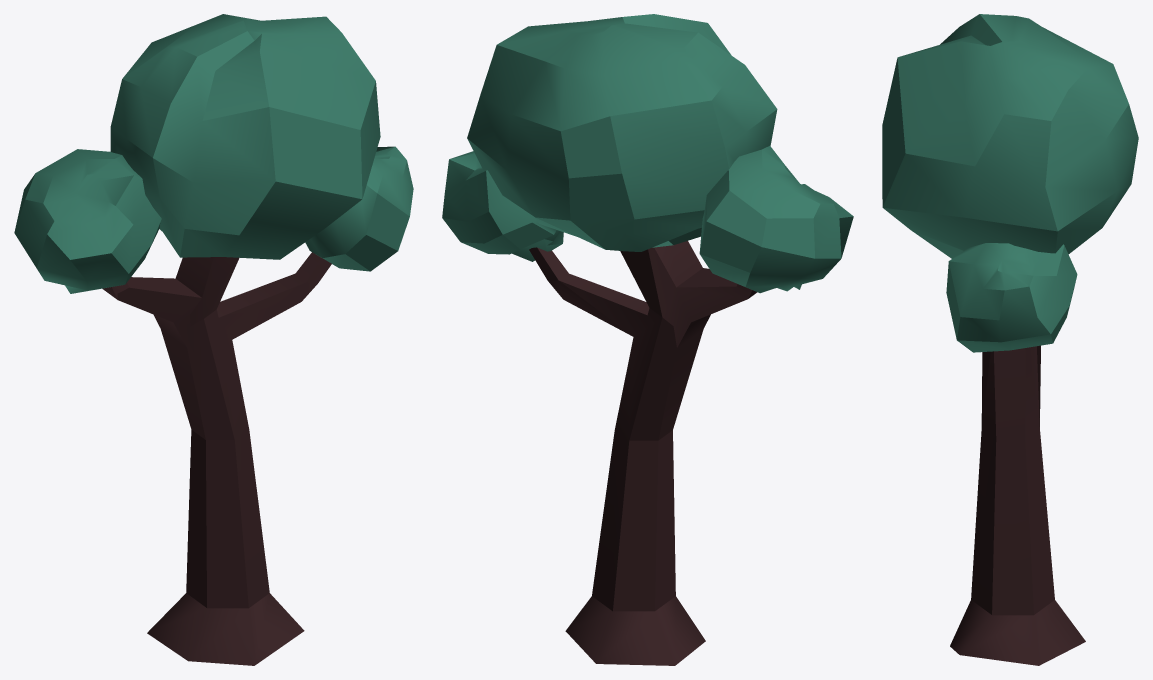
Rendered from small_tree.fbx.
3 renders of one model, left to right at view 1: azimuth 30°, elevation 25°; view 2: azimuth 150°, elevation 25°; view 3: azimuth 270°, elevation 25°, orthographic.
Visible parts, largest first — view 1: Sphere, Cylinder, Sphere.002, Sphere.001; view 2: Sphere, Cylinder, Sphere.002, Sphere.001; view 3: Sphere, Cylinder, Sphere.001.
Part boxes in pixels (x1,y1,x2,y2): Sphere: [110, 14, 380, 259]; Cylinder: [102, 252, 331, 665]; Sphere.002: [14, 149, 161, 293]; Sphere.001: [305, 146, 413, 271]; Sphere: [467, 14, 777, 251]; Cylinder: [529, 241, 757, 665]; Sphere.002: [699, 146, 853, 293]; Sphere.001: [442, 151, 563, 261]; Sphere: [882, 14, 1138, 258]; Cylinder: [950, 345, 1085, 665]; Sphere.001: [946, 243, 1077, 352].
Size of the model in its own units: 261 by 405 by 153.
